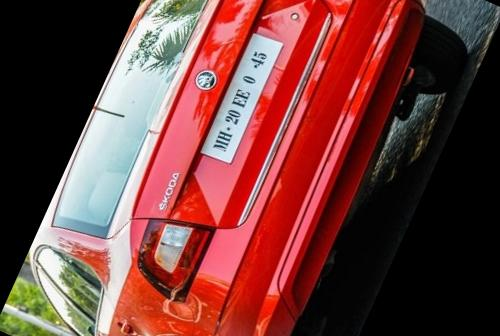plate: (184, 15, 300, 177)
